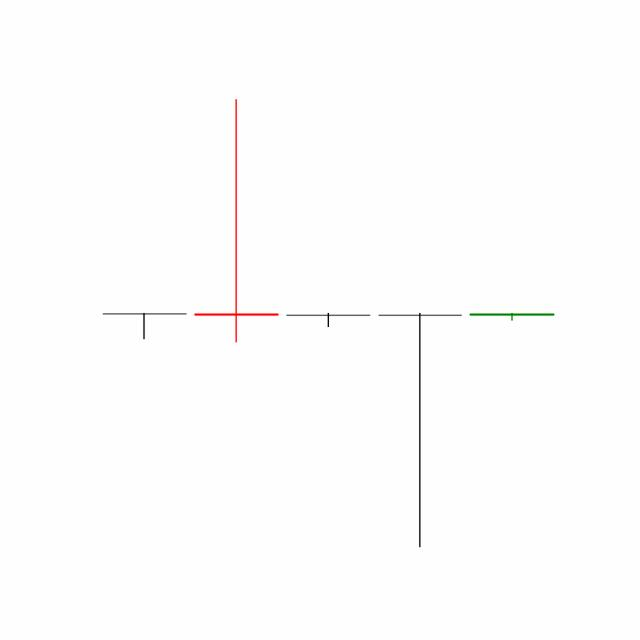Dragonfly Doji: (373, 310, 467, 550)
